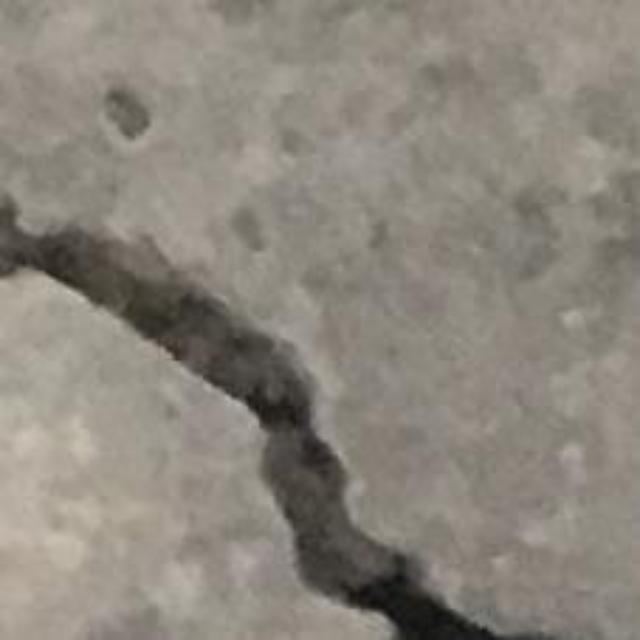crack: (0, 195, 546, 639)
